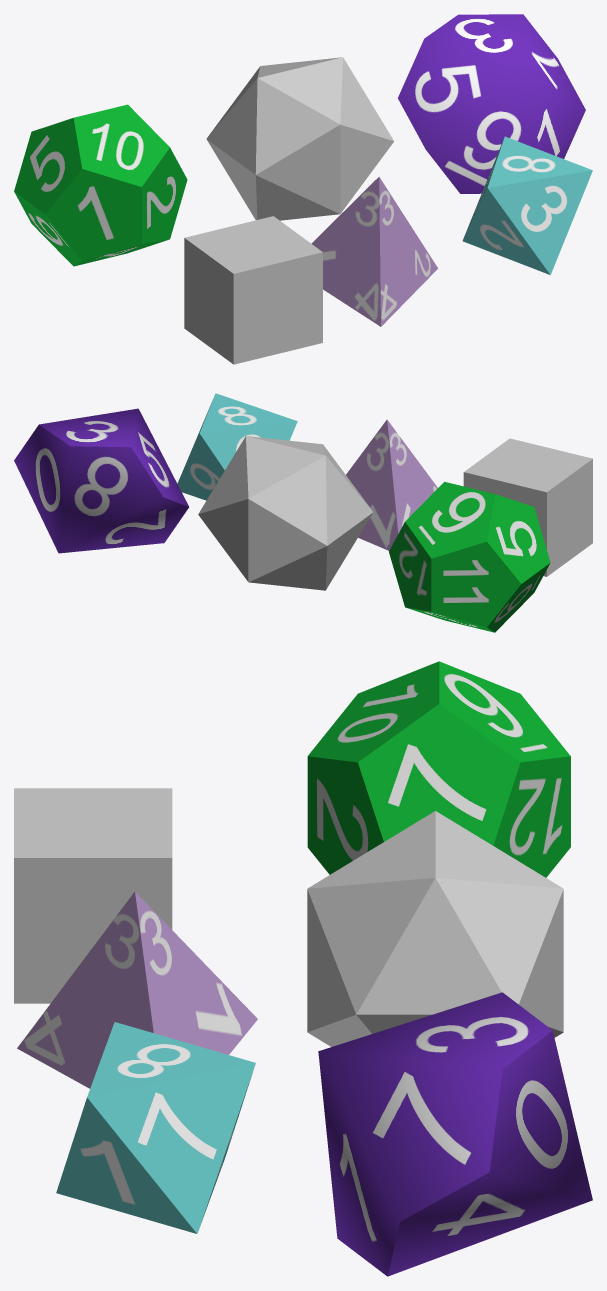
The model's file is dice_set.obj.
3 views of the same model, one above another, from view 1: azimuth 30°, elevation 25°; view 2: azimuth 150°, elevation 25°; view 3: azimuth 270°, elevation 25° (orthographic). The views are drawn at different scales.
Visible parts, largest first — view 1: Mesh, icosahedron:icosahedron, dodecahedron1:Mesh, pCube8, pPyramid3, pPyramid1; view 2: icosahedron:icosahedron, Mesh, dodecahedron1:Mesh, pCube8, pPyramid1, pPyramid3; view 3: Mesh, icosahedron:icosahedron, dodecahedron1:Mesh, pPyramid3, pCube8, pPyramid1.
Boxes of the visible parts, x1,y1,x2,y2 form: Mesh: (398,14,585,193); icosahedron:icosahedron: (206,57,394,220); dodecahedron1:Mesh: (14,104,187,266); pCube8: (184,216,322,364); pPyramid3: (462,136,592,274); pPyramid1: (311,177,437,326); icosahedron:icosahedron: (198,436,373,590); Mesh: (14,408,188,553); dodecahedron1:Mesh: (389,481,550,632); pCube8: (463,438,592,576); pPyramid1: (346,419,437,550); pPyramid3: (177,393,297,500); Mesh: (318,992,592,1276); icosahedron:icosahedron: (307,811,563,1046); dodecahedron1:Mesh: (307,661,570,877); pPyramid3: (56,1022,255,1233); pCube8: (14,788,172,1003); pPyramid1: (17,891,257,1088).
Size of the model in its own units: 12.38 by 3.42 by 7.12.
